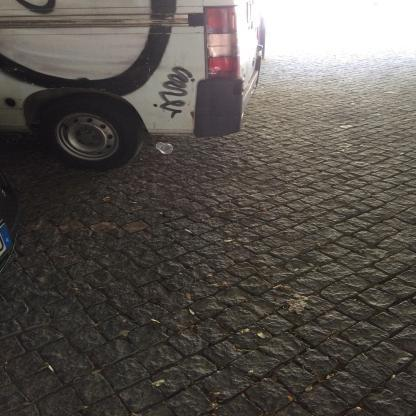plastik: (156, 143, 174, 155)
